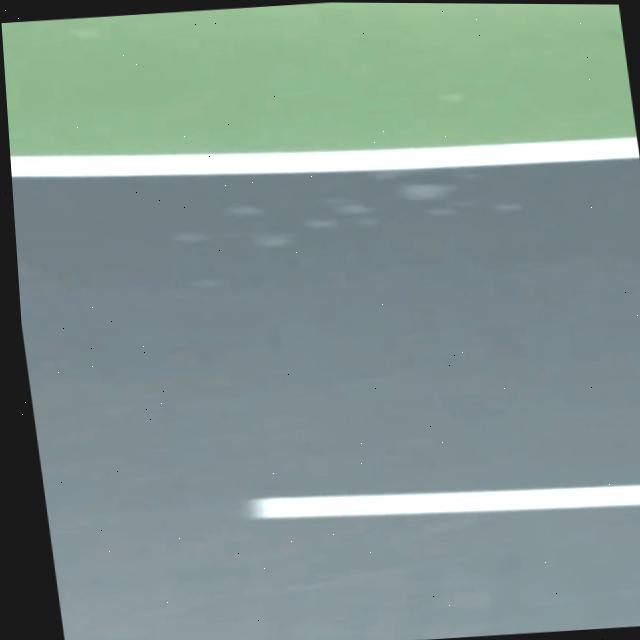center: (249, 483, 640, 518)
right: (10, 136, 639, 176)
